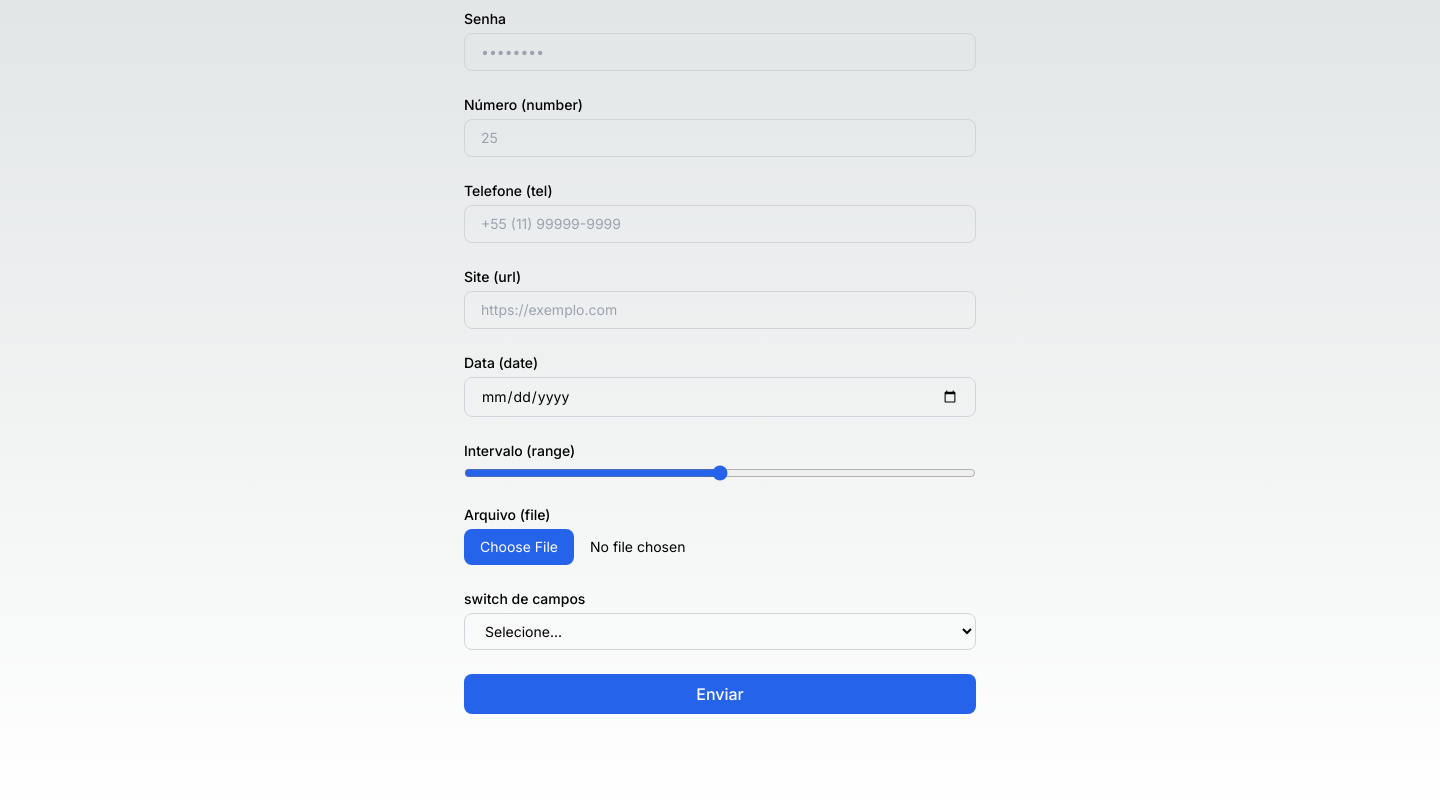
it: ContactPage › renderização condicional pelo SelectField › exibe o textarea ao selecionar campo-3
This screenshot has width=1440, height=810.
(page scrolled)
Select "campo-3" in the dropdown: (720, 632) 464,613 -> 976,650
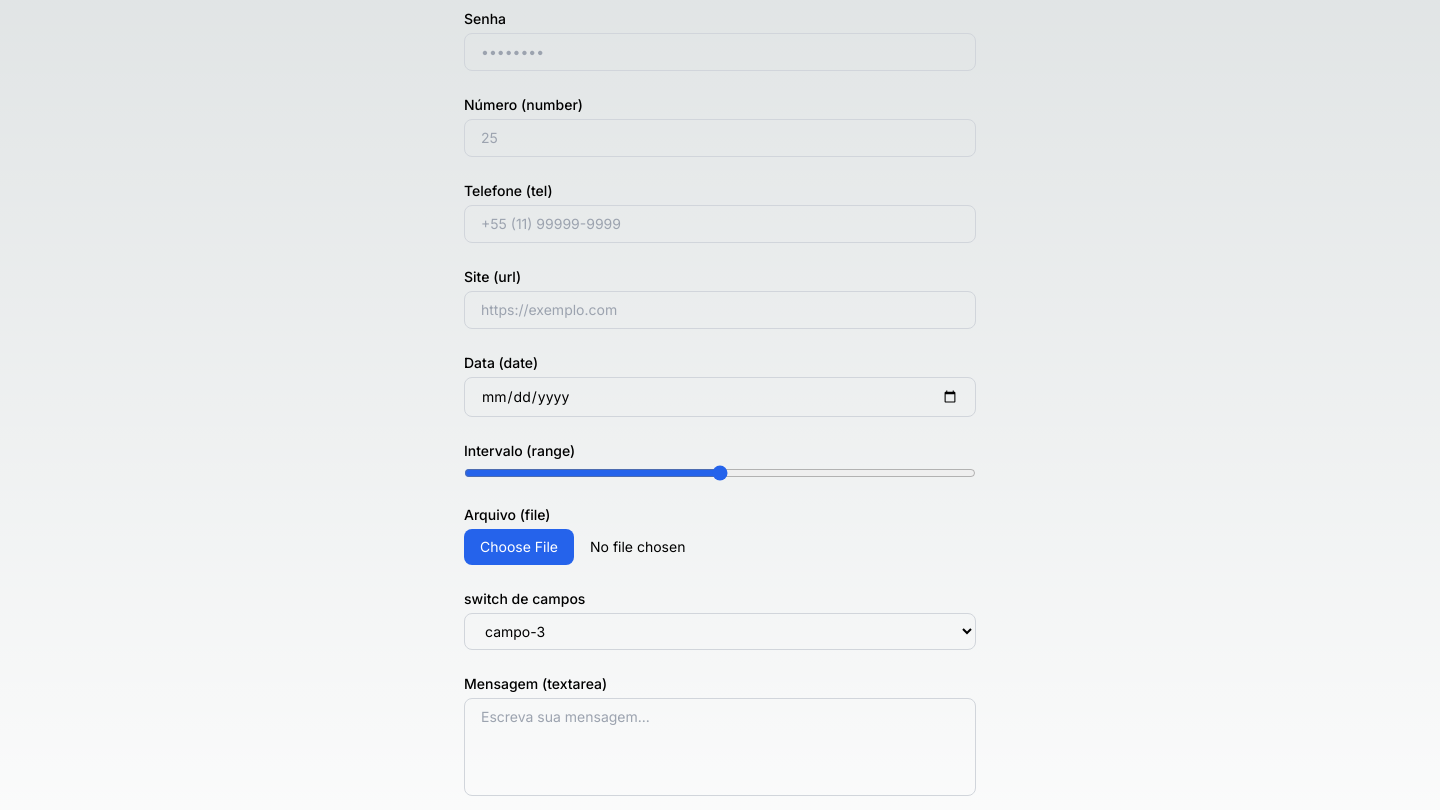
Now the text box with placeholder "Escreva sua mensagem..." is shown, box 464,698 -> 976,796
